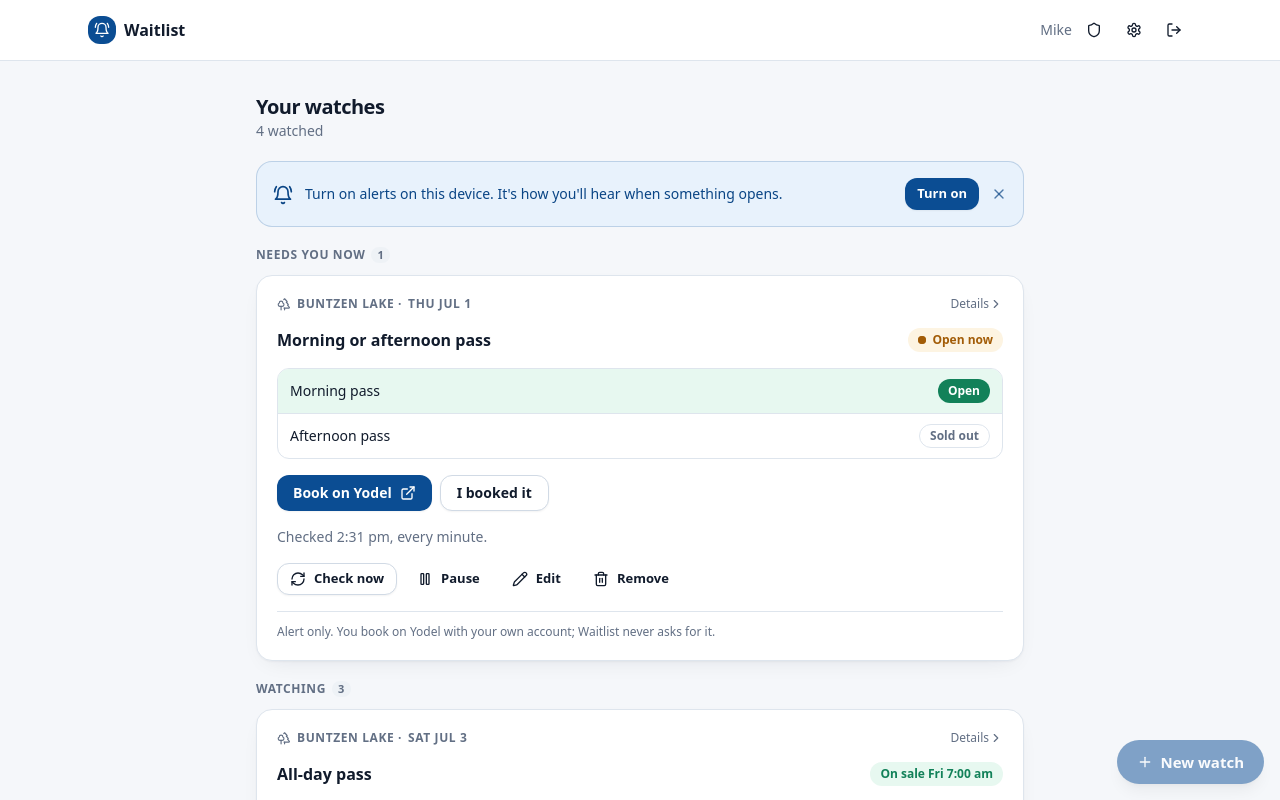
Test case: the dashboard › disables New watch at every limit, and says why
This screenshot has width=1280, height=800.
Hover over the element showing "New watch" at coordinates (1190, 762), box [1116,740,1264,784]
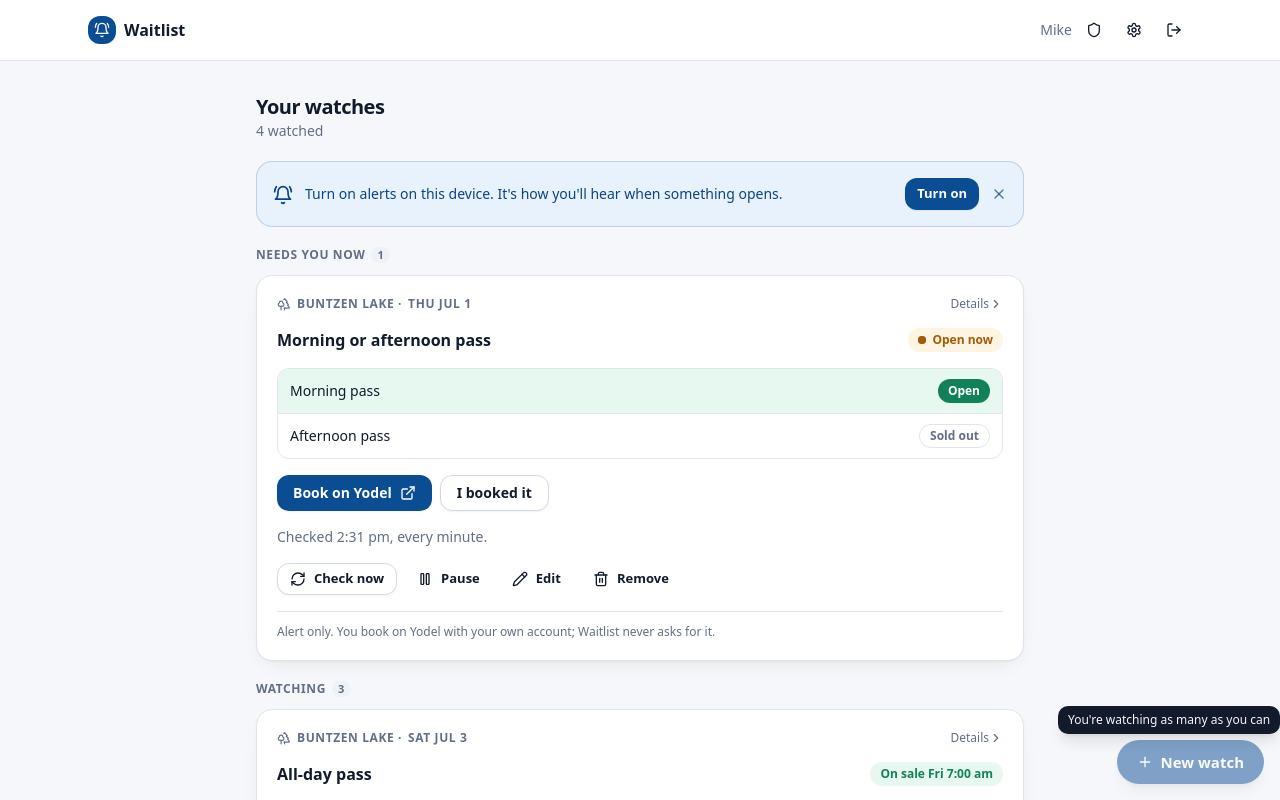
expect the tooltip "You're watching as many as you can" is shown: met, box [1058,706,1279,734]
